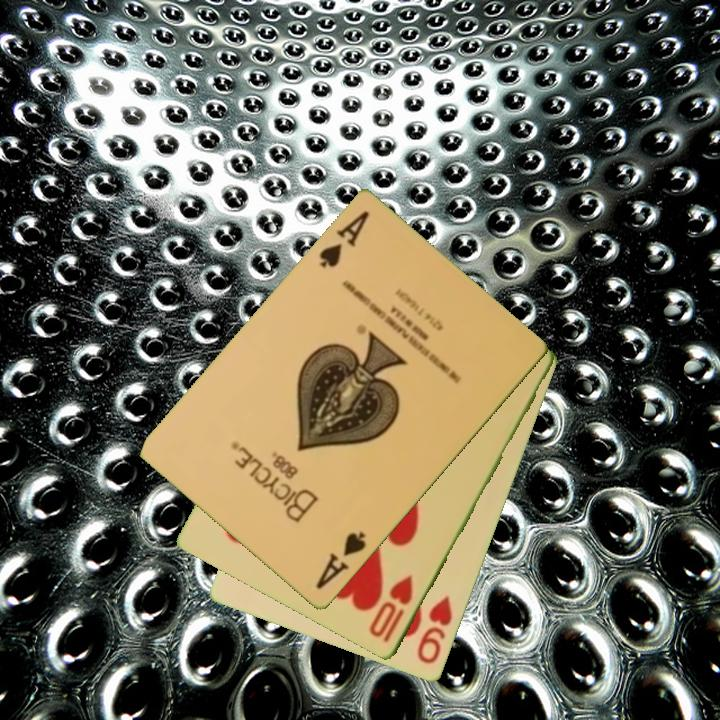10h: (365, 572, 417, 646)
9h: (414, 593, 456, 668)
As: (315, 207, 373, 272), (312, 528, 369, 593)
